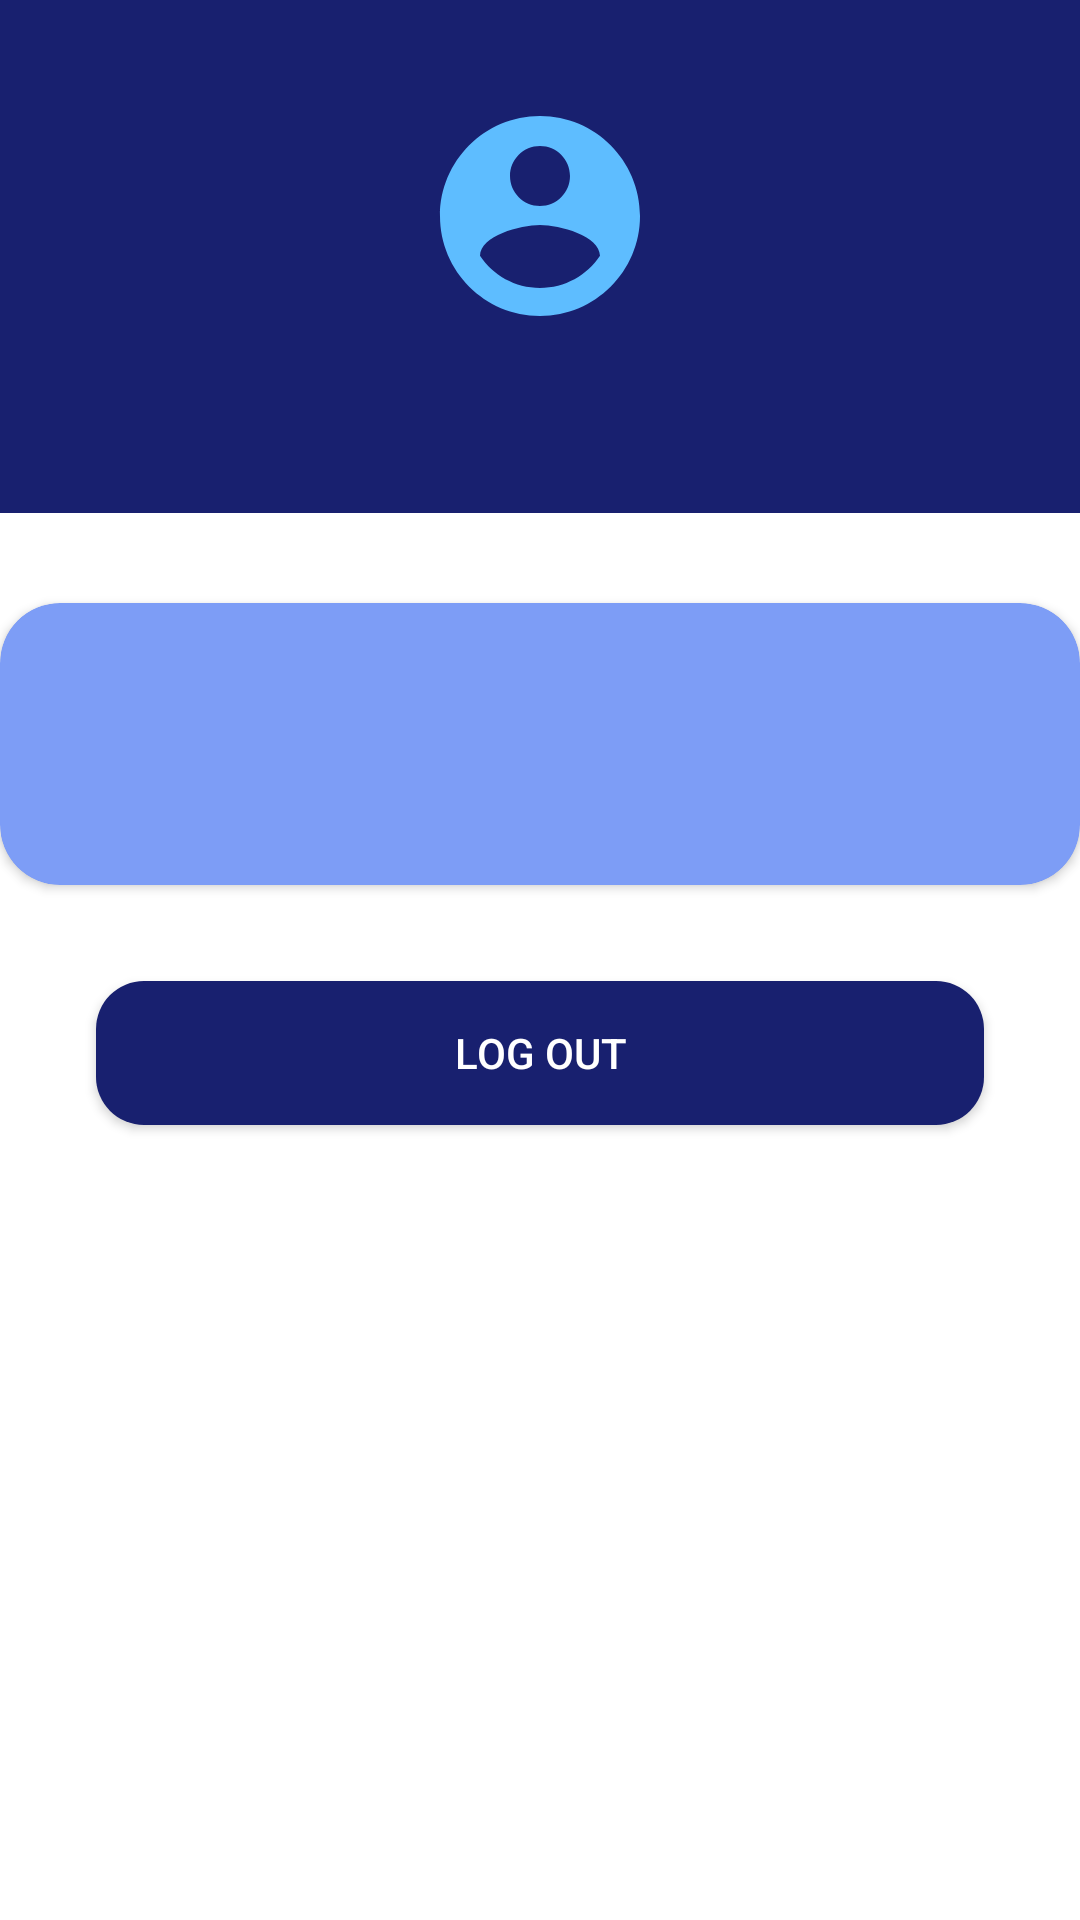

Named icons in this screenshot (1080×1920) and their centers, [x,y]:
account circle: [540,216]
